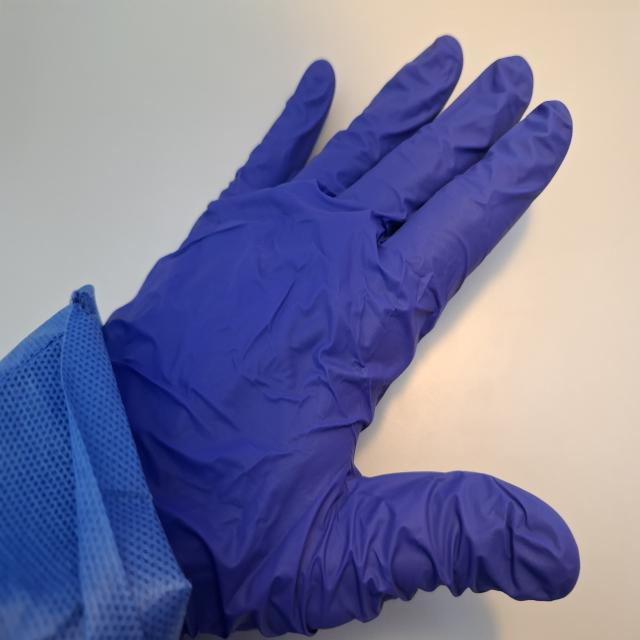glove_on: (92, 30, 586, 640)
